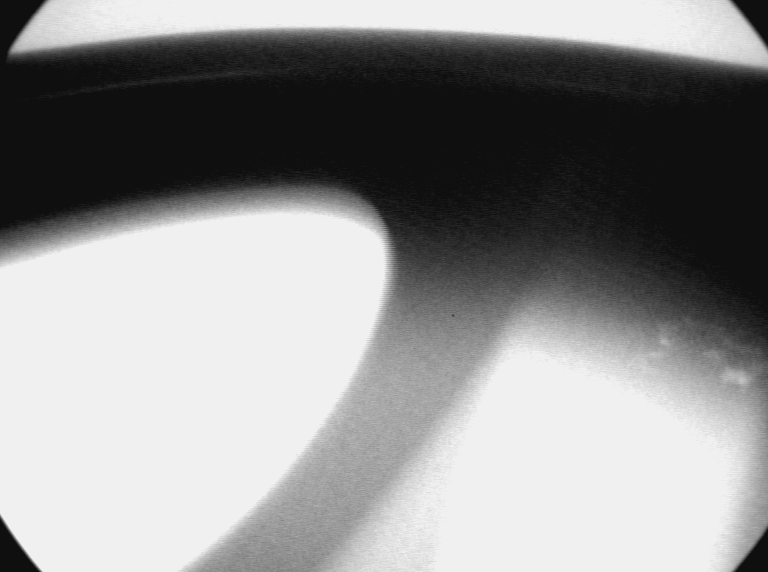defect: (638, 293, 766, 405)
